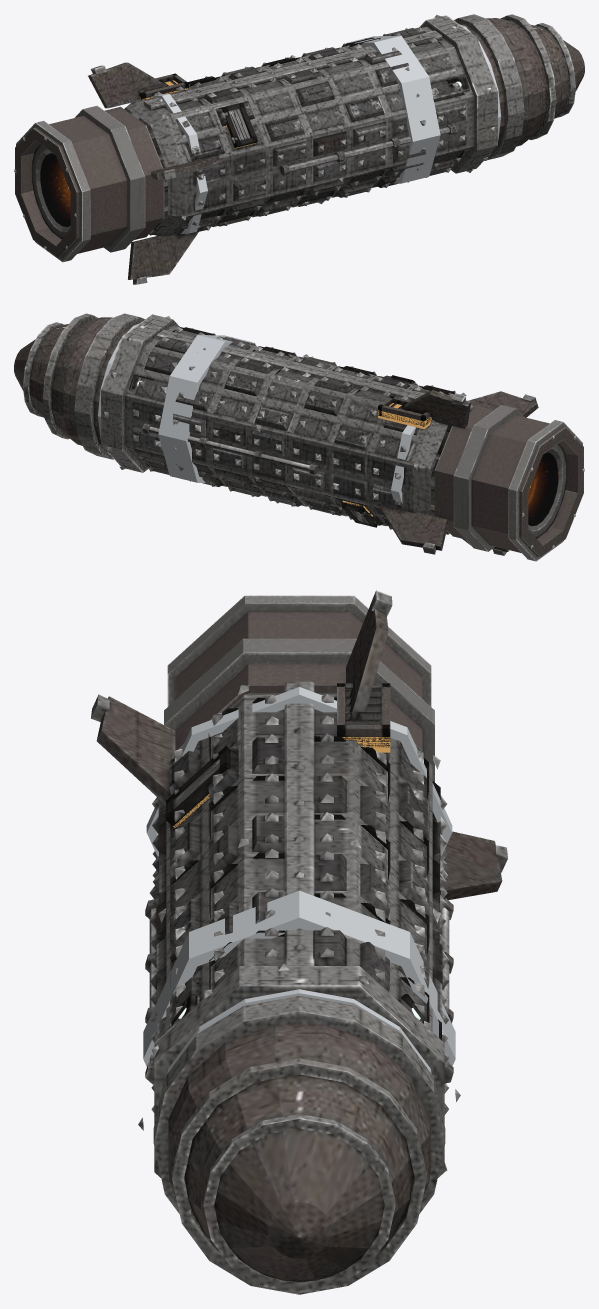
File: voidsworn_torp.glb
3 views of the same model, one above another, from view 1: azimuth 30°, elevation 25°; view 2: azimuth 150°, elevation 25°; view 3: azimuth 270°, elevation 25° (orthographic). The views are drawn at different scales.
Visible parts, largest first — view 1: voidsworn_torp_body_siron, voidsworn_torp_body_sworn, voidsworn_torp_body_siron2, voidsworn_torp_drive_siron2, voidsworn_torp_body_oath, voidsworn_torp_drive_siron, voidsworn_torp_drive_sworn, voidsworn_torp_drive_ember, voidsworn_torp_vent_siron2, voidsworn_torp_vent_siron; view 2: voidsworn_torp_body_siron, voidsworn_torp_body_sworn, voidsworn_torp_body_siron2, voidsworn_torp_drive_siron2, voidsworn_torp_body_oath, voidsworn_torp_drive_siron, voidsworn_torp_drive_sworn, voidsworn_torp_drive_ember, voidsworn_torp_vent_siron2, voidsworn_torp_vent_ember; view 3: voidsworn_torp_body_siron2, voidsworn_torp_body_sworn, voidsworn_torp_body_siron, voidsworn_torp_body_oath, voidsworn_torp_drive_siron2, voidsworn_torp_drive_siron, voidsworn_torp_drive_sworn, voidsworn_torp_vent_siron2, voidsworn_torp_vent_siron.
Part boxes in pixels (x1=…): voidsworn_torp_body_siron: x1=124, y1=26, x2=474, y2=236; voidsworn_torp_body_sworn: x1=91, y1=14, x2=575, y2=284; voidsworn_torp_body_siron2: x1=88, y1=18, x2=584, y2=279; voidsworn_torp_drive_siron2: x1=15, y1=106, x2=164, y2=258; voidsworn_torp_body_oath: x1=130, y1=24, x2=500, y2=233; voidsworn_torp_drive_siron: x1=32, y1=105, x2=145, y2=252; voidsworn_torp_drive_sworn: x1=14, y1=120, x2=90, y2=262; voidsworn_torp_drive_ember: x1=40, y1=153, x2=70, y2=226; voidsworn_torp_vent_siron2: x1=138, y1=73, x2=257, y2=147; voidsworn_torp_vent_siron: x1=159, y1=78, x2=250, y2=140; voidsworn_torp_body_siron: x1=124, y1=326, x2=474, y2=533; voidsworn_torp_body_sworn: x1=23, y1=313, x2=536, y2=555; voidsworn_torp_body_siron2: x1=14, y1=317, x2=538, y2=551; voidsworn_torp_drive_siron2: x1=434, y1=406, x2=583, y2=557; voidsworn_torp_body_oath: x1=98, y1=323, x2=452, y2=503; voidsworn_torp_drive_siron: x1=453, y1=405, x2=566, y2=551; voidsworn_torp_drive_sworn: x1=508, y1=420, x2=584, y2=561; voidsworn_torp_drive_ember: x1=528, y1=452, x2=558, y2=526; voidsworn_torp_vent_siron2: x1=341, y1=375, x2=431, y2=527; voidsworn_torp_vent_ember: x1=342, y1=403, x2=431, y2=516; voidsworn_torp_body_siron2: x1=96, y1=602, x2=502, y2=1281; voidsworn_torp_body_sworn: x1=91, y1=590, x2=507, y2=1294; voidsworn_torp_body_siron: x1=156, y1=693, x2=442, y2=1039; voidsworn_torp_body_oath: x1=143, y1=687, x2=455, y2=1073; voidsworn_torp_drive_siron2: x1=176, y1=611, x2=422, y2=751; voidsworn_torp_drive_siron: x1=164, y1=638, x2=434, y2=782; voidsworn_torp_drive_sworn: x1=167, y1=595, x2=431, y2=706; voidsworn_torp_vent_siron2: x1=166, y1=683, x2=390, y2=828; voidsworn_torp_vent_siron: x1=174, y1=689, x2=381, y2=808.
Size of the model in its own units: 2.34 by 0.7818 by 0.7818.
Materials: 7 (3 with a texture image).
